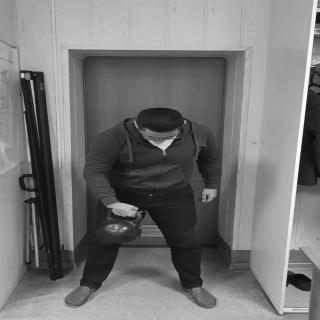kettlebell: (95, 209, 145, 245)
